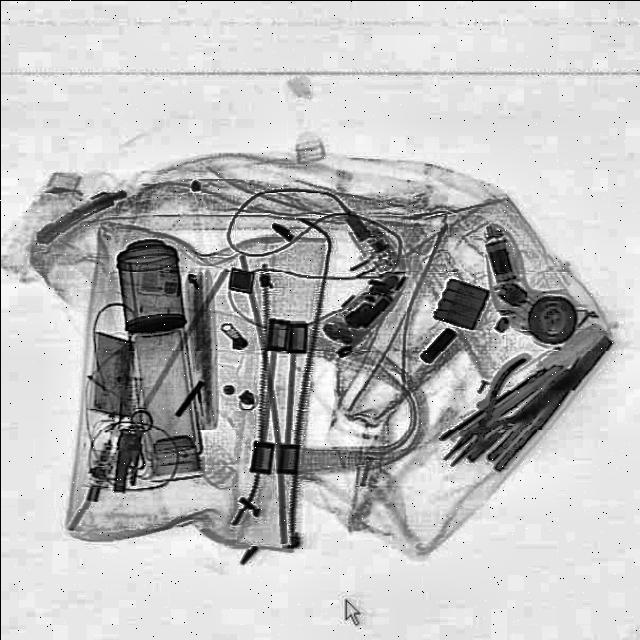Pliers: (422, 350, 564, 480)
